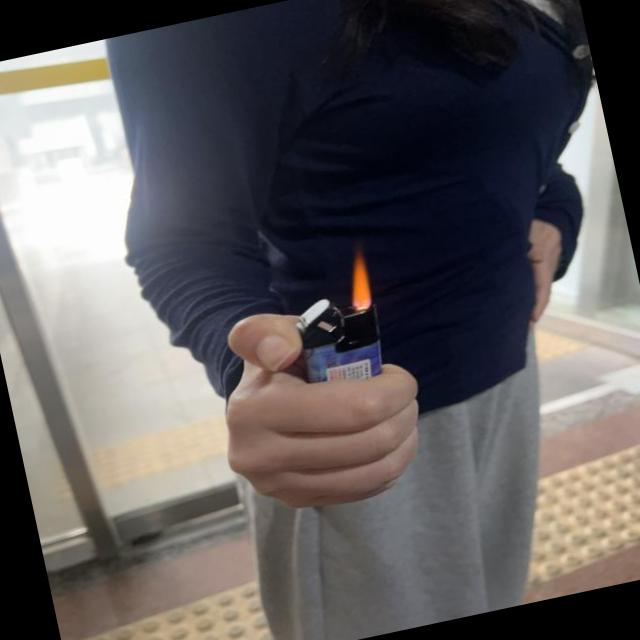Fire: (340, 252, 376, 306)
